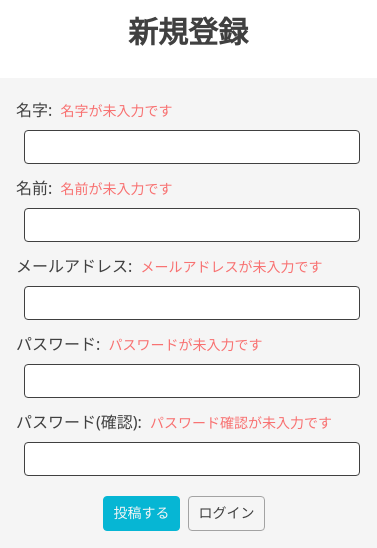
Scenario: validation › should show alert when the password and password repeat are different
The image size is (377, 548).
Step 1. Type "aaaa" into the password field with test id "password-input" → x=192, y=381, box [24, 364, 360, 398]
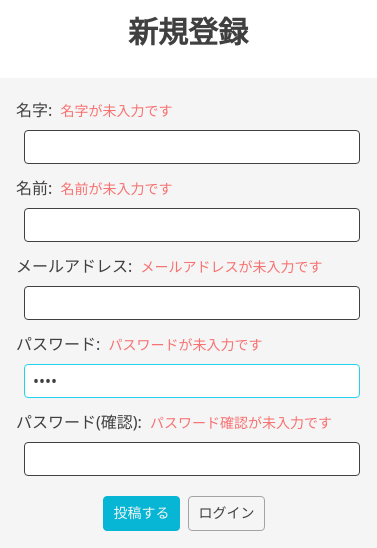
Step 2. Type "bbbb" into the password field with test id "password-confirm-input" → x=192, y=459, box [24, 442, 360, 476]
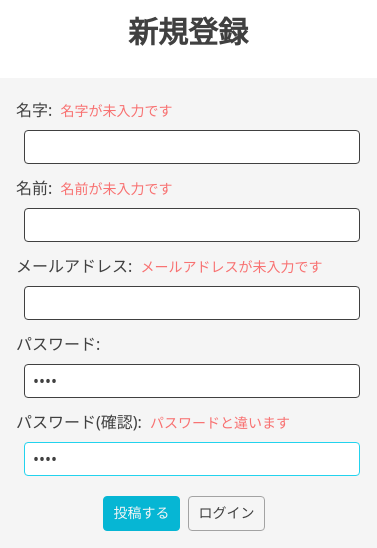
Expected: the text "パスワードと違います" is shown, [150, 413, 290, 432]
